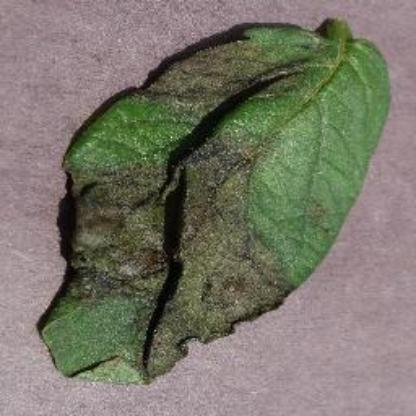Late-Blight: (41, 17, 398, 388)
